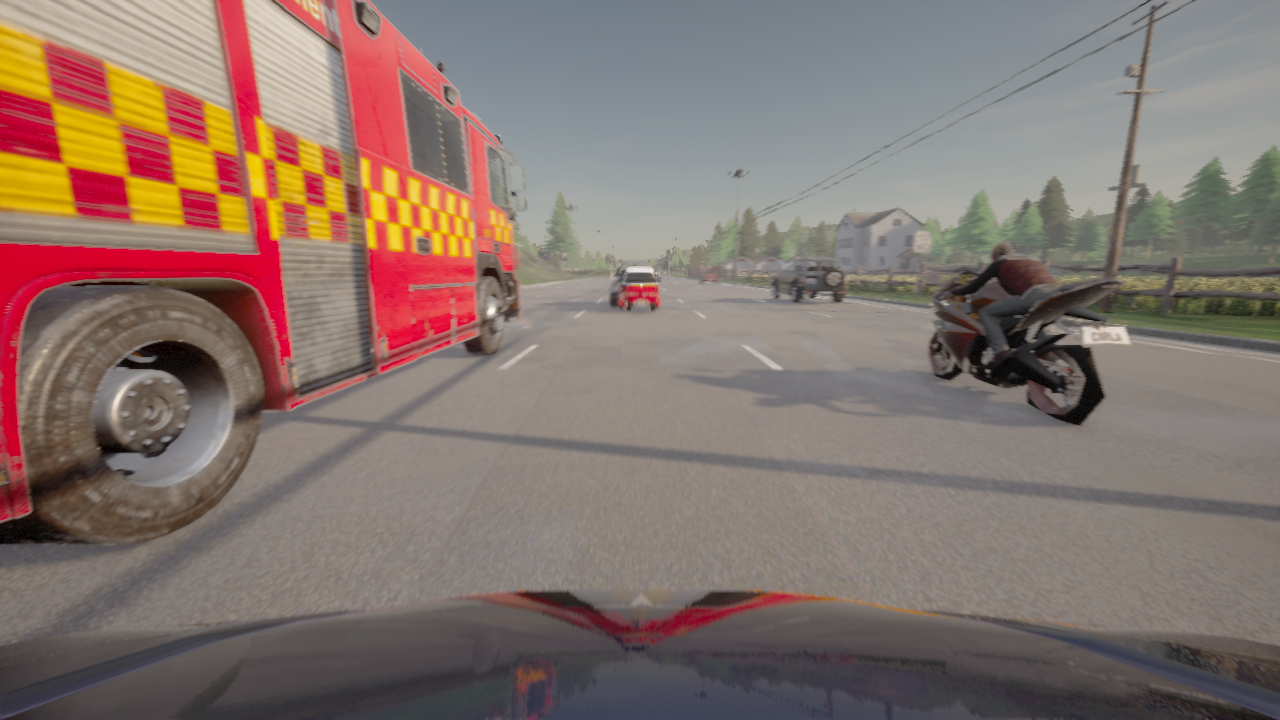cyclist: (0, 588, 1279, 719), (926, 270, 1132, 426), (771, 257, 848, 302), (610, 262, 658, 306), (617, 267, 661, 312), (698, 270, 717, 284)
